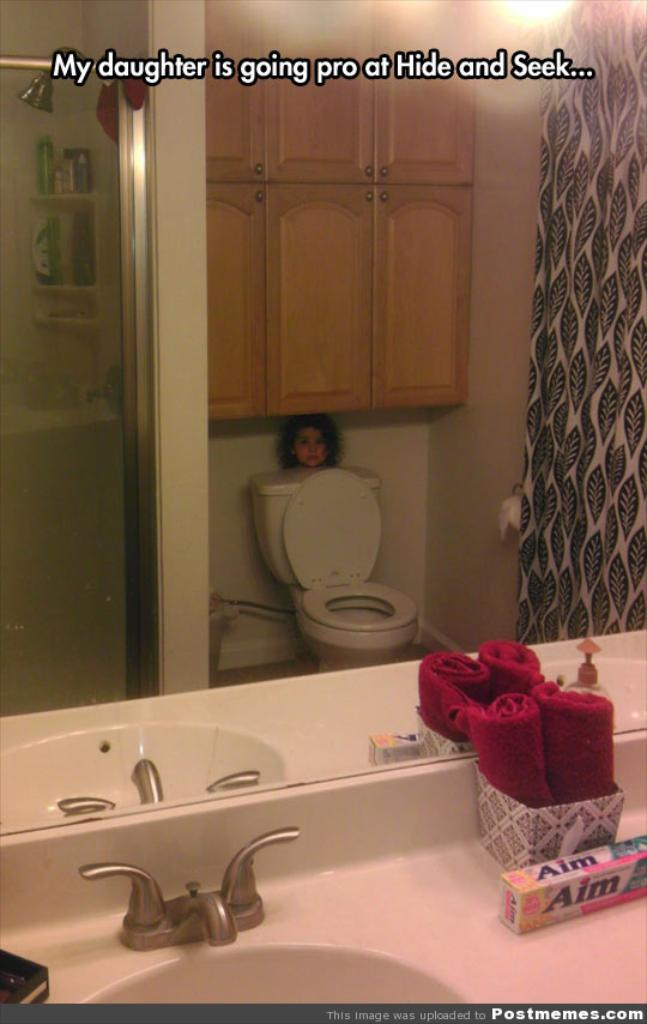tap: (103, 846, 321, 971)
